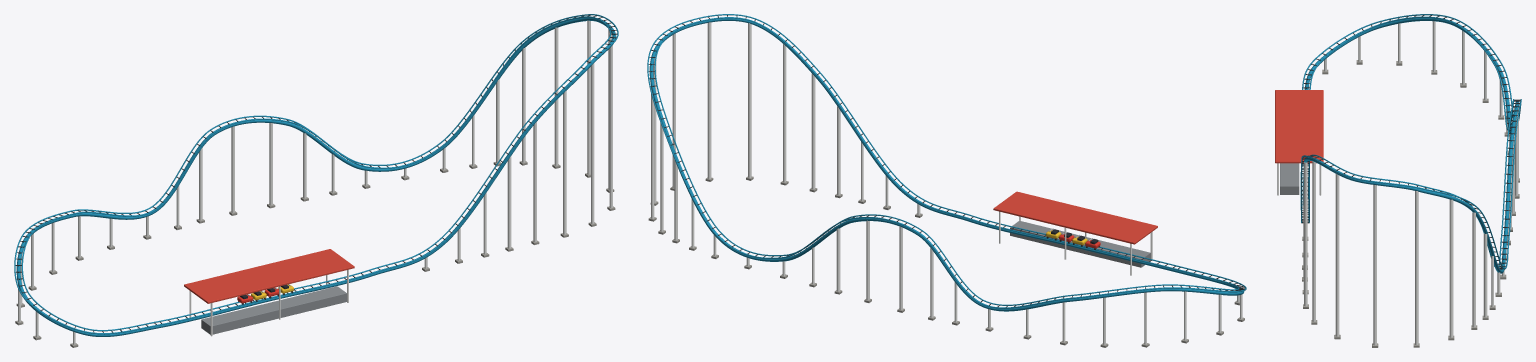
The model's file is coaster.glb.
3 views of the same model, side by side, from view 1: azimuth 30°, elevation 25°; view 2: azimuth 150°, elevation 25°; view 3: azimuth 270°, elevation 25° (orthographic). The views are drawn at different scales.
Visible parts, largest first — view 1: rail_l, canopy_post, canopy, platform, column_foot, tie; view 2: rail_l, canopy_post, canopy, platform, column_foot, tie; view 3: canopy_post, rail_l, canopy, tie, column_foot, platform.
Boxes of the visible parts, x1,y1,x2,y2 form: rail_l: [14, 14, 618, 336]; canopy_post: [18, 20, 612, 344]; canopy: [184, 249, 354, 303]; platform: [201, 286, 346, 334]; column_foot: [15, 161, 615, 347]; tie: [15, 15, 617, 334]; rail_l: [647, 14, 1246, 311]; canopy_post: [651, 22, 1242, 344]; canopy: [993, 191, 1157, 244]; platform: [1010, 220, 1150, 267]; column_foot: [648, 176, 1244, 347]; tie: [648, 15, 1245, 307]; canopy_post: [1277, 21, 1518, 345]; rail_l: [1300, 14, 1521, 273]; canopy: [1275, 90, 1323, 163]; tie: [1301, 15, 1520, 269]; column_foot: [1302, 60, 1519, 347]; platform: [1280, 163, 1299, 194].
Size of the model in its own units: 113 by 30.95 by 40.73.
